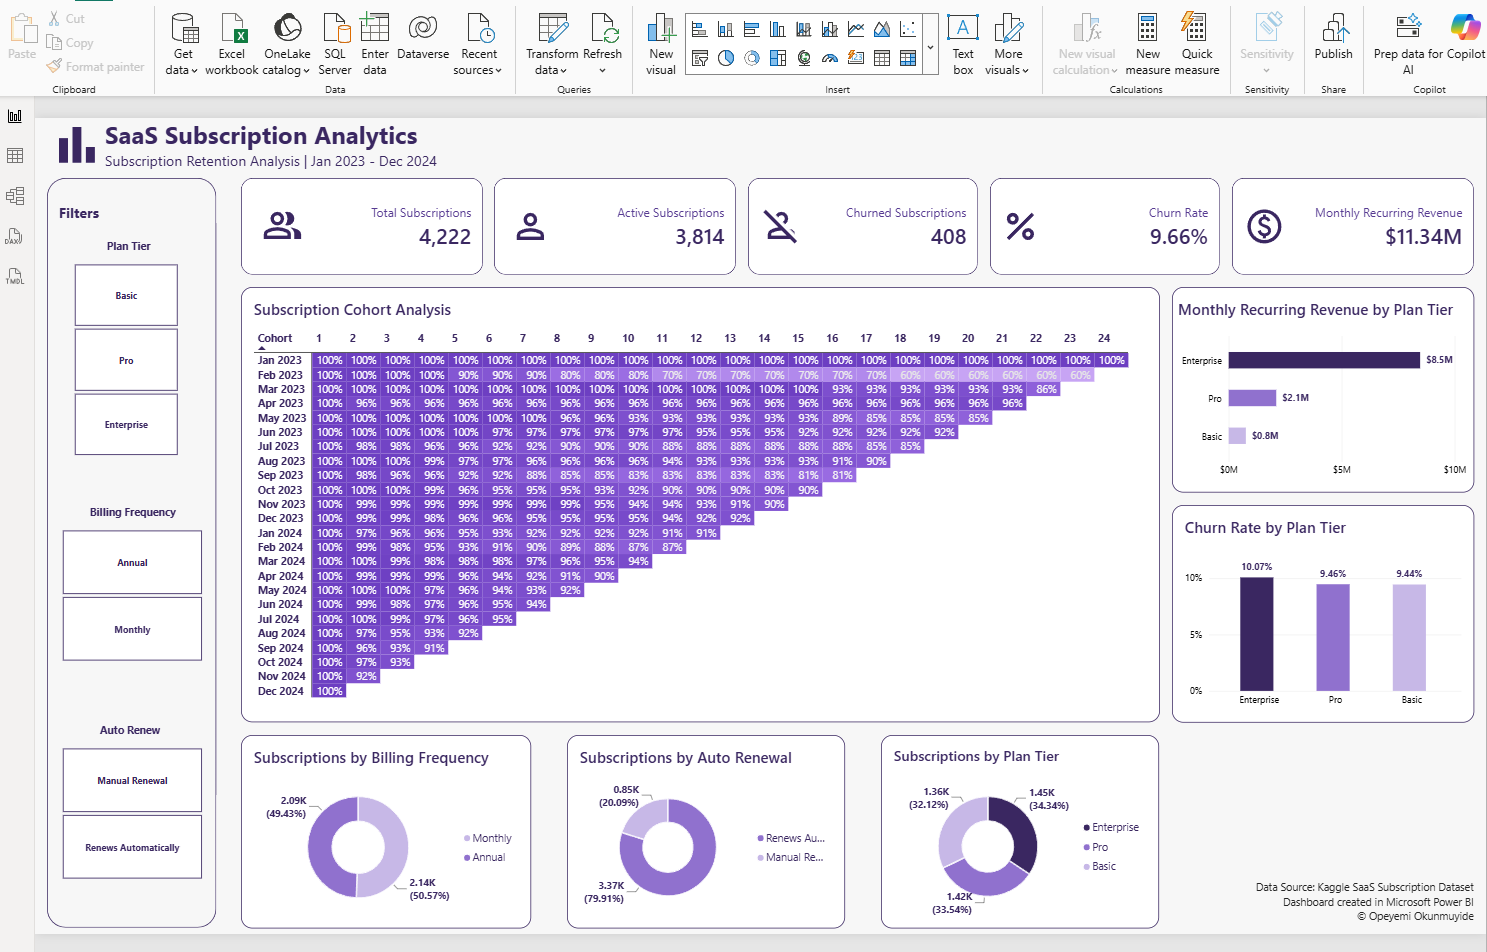

What the dashboard file says about the page in this screenshot:
{"tool":"powerbi","page":{"name":"Page 1","canvas":[1920,1080],"ordinal":0},"visuals":[{"type":"cardVisual","fields":{"Data":["Measure.Total Subscriptions"]},"box":[272,80,320,128],"z":0},{"type":"cardVisual","fields":{"Data":["Measure.Total MRR Display"]},"box":[1584,80,320,128],"z":1000},{"type":"cardVisual","fields":{"Data":["Measure.Churn Rate"]},"box":[1264,80,304,128],"z":2000},{"type":"cardVisual","fields":{"Data":["Measure.Churned Subscriptions"]},"box":[944,80,304,128],"z":3000},{"type":"cardVisual","fields":{"Data":["Measure.Active Subscriptions"]},"box":[608,80,320,128],"z":4000},{"type":"pivotTable","title":"Subscription Cohort Analysis","fields":{"Columns":["subscriptions.Month Number"],"Rows":["subscriptions.Start Date (SOM)"],"Values":["Measure.Retention %"]},"box":[272,224,1216,576],"z":5000},{"type":"clusteredBarChart","title":"Monthly Recurring Revenue by Plan Tier","fields":{"Category":["subscriptions.plan_tier"],"Y":["Measure.Total MRR"]},"box":[1504,224,400,272],"z":6000},{"type":"donutChart","title":"Subscriptions by Plan Tier","fields":{"Category":["subscriptions.plan_tier"],"Y":["Count(subscriptions.subscription_id)"]},"box":[1120,816,368,256],"z":7000},{"type":"clusteredColumnChart","title":"Churn Rate by Plan Tier","fields":{"Y":["Measure.Churn Rate"],"Category":["subscriptions.plan_tier"]},"box":[1504,512,400,288],"z":8000},{"type":"donutChart","title":"Subscriptions by Billing Frequency","fields":{"Category":["subscriptions.billing_frequency"],"Y":["Count(subscriptions.subscription_id)"]},"box":[272,816,384,256],"z":9000},{"type":"shape","box":[16,80,224,992],"z":10000},{"type":"slicer","title":"Plan Tier","fields":{"Values":["subscriptions.plan_tier"]},"box":[32,192,176,256],"z":11000},{"type":"slicer","title":"Billing Frequency","fields":{"Values":["subscriptions.billing_frequency"]},"box":[16,544,224,176],"z":12000},{"type":"slicer","title":"Auto Renew","fields":{"Values":["subscriptions.auto_renew_flag"]},"box":[16,832,224,176],"z":13000},{"type":"textbox","box":[16,160,208,32],"z":14000},{"type":"textbox","box":[32,512,176,32],"z":15000},{"type":"textbox","box":[32,800,176,32],"z":16000},{"type":"textbox","box":[16,112,224,32],"z":17000},{"type":"textbox","box":[92.2,0,627.4,80.1],"z":18000},{"type":"textbox","box":[1600,1008,304,64],"z":19000},{"type":"donutChart","title":"Subscriptions by Auto Renewal","fields":{"Category":["subscriptions.auto_renew_flag"],"Y":["Measure.Total Subscriptions"]},"box":[704,816,368,256],"z":20000},{"type":"image","box":[300,111.4,54.3,61.4],"z":21000},{"type":"image","box":[628.6,112.9,54,61],"z":22000},{"type":"image","box":[960,111.4,54,61],"z":23000},{"type":"image","box":[1277.1,112.9,54,61],"z":24000},{"type":"image","box":[1600,112.9,54,61],"z":25000},{"type":"image","box":[0,0,111.9,71.1],"z":27000}]}

Visuals, with their boxes on the page's 1920x1080 design canvas (x1, y1, x2, y2). These are canvas units, not pixel positions in the 1487x952 screenshot, which may show the page scaled, cropped or inside an application window:
cardVisual - Measure.Total Subscriptions: {"x1": 272, "y1": 80, "x2": 592, "y2": 208}
cardVisual - Measure.Total MRR Display: {"x1": 1584, "y1": 80, "x2": 1904, "y2": 208}
cardVisual - Measure.Churn Rate: {"x1": 1264, "y1": 80, "x2": 1568, "y2": 208}
cardVisual - Measure.Churned Subscriptions: {"x1": 944, "y1": 80, "x2": 1248, "y2": 208}
cardVisual - Measure.Active Subscriptions: {"x1": 608, "y1": 80, "x2": 928, "y2": 208}
"Subscription Cohort Analysis" pivotTable: {"x1": 272, "y1": 224, "x2": 1488, "y2": 800}
"Monthly Recurring Revenue by Plan Tier" clusteredBarChart: {"x1": 1504, "y1": 224, "x2": 1904, "y2": 496}
"Subscriptions by Plan Tier" donutChart: {"x1": 1120, "y1": 816, "x2": 1488, "y2": 1072}
"Churn Rate by Plan Tier" clusteredColumnChart: {"x1": 1504, "y1": 512, "x2": 1904, "y2": 800}
"Subscriptions by Billing Frequency" donutChart: {"x1": 272, "y1": 816, "x2": 656, "y2": 1072}
shape: {"x1": 16, "y1": 80, "x2": 240, "y2": 1072}
"Plan Tier" slicer: {"x1": 32, "y1": 192, "x2": 208, "y2": 448}
"Billing Frequency" slicer: {"x1": 16, "y1": 544, "x2": 240, "y2": 720}
"Auto Renew" slicer: {"x1": 16, "y1": 832, "x2": 240, "y2": 1008}
textbox: {"x1": 16, "y1": 160, "x2": 224, "y2": 192}
textbox: {"x1": 32, "y1": 512, "x2": 208, "y2": 544}
textbox: {"x1": 32, "y1": 800, "x2": 208, "y2": 832}
textbox: {"x1": 16, "y1": 112, "x2": 240, "y2": 144}
textbox: {"x1": 92, "y1": 0, "x2": 720, "y2": 80}
textbox: {"x1": 1600, "y1": 1008, "x2": 1904, "y2": 1072}
"Subscriptions by Auto Renewal" donutChart: {"x1": 704, "y1": 816, "x2": 1072, "y2": 1072}
image: {"x1": 300, "y1": 111, "x2": 354, "y2": 173}
image: {"x1": 629, "y1": 113, "x2": 683, "y2": 174}
image: {"x1": 960, "y1": 111, "x2": 1014, "y2": 172}
image: {"x1": 1277, "y1": 113, "x2": 1331, "y2": 174}
image: {"x1": 1600, "y1": 113, "x2": 1654, "y2": 174}
image: {"x1": 0, "y1": 0, "x2": 112, "y2": 71}
